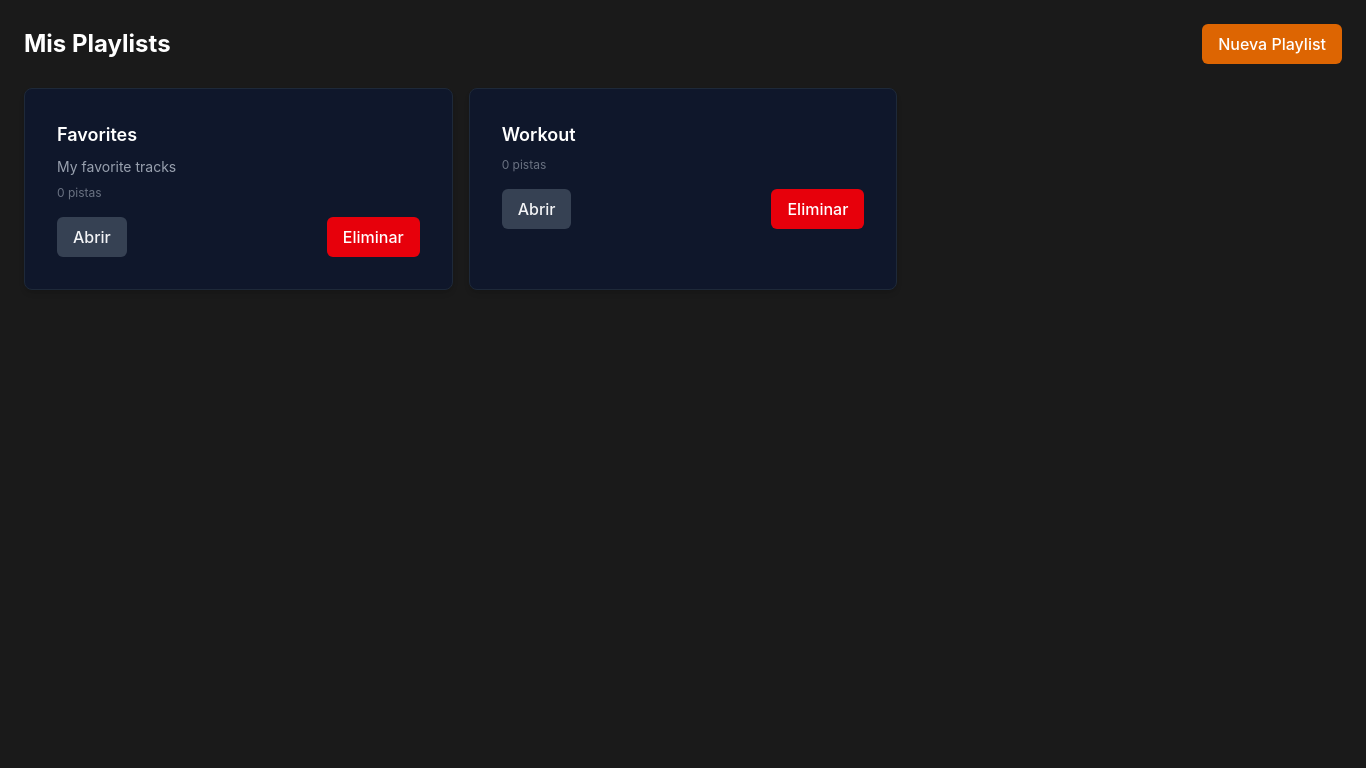
it: PlaylistManager › debería abrir diálogo de creación al hacer click en botón
Click the button "Nueva Playlist". click: (1272, 44)
box: [1202, 24, 1342, 64]
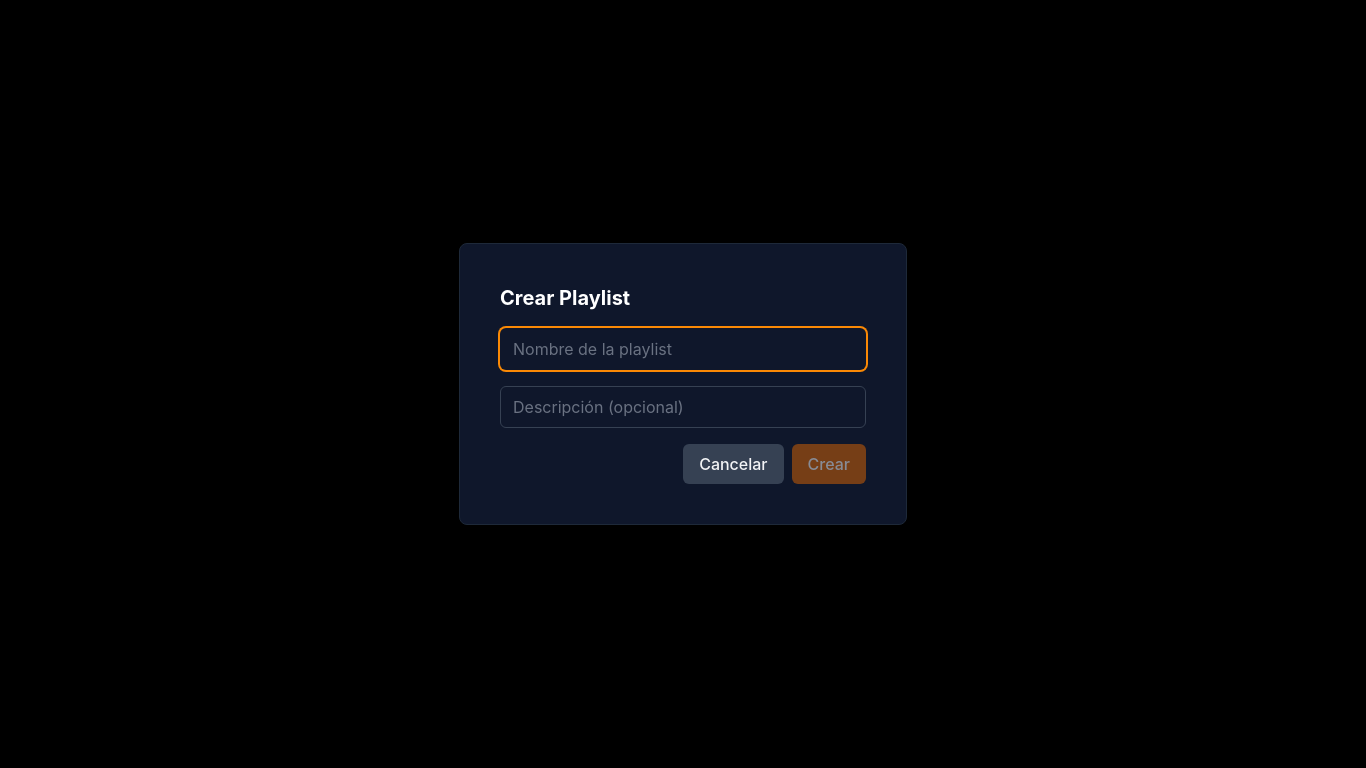
Expected: the heading "Crear Playlist" is shown, [500, 286, 630, 310]
